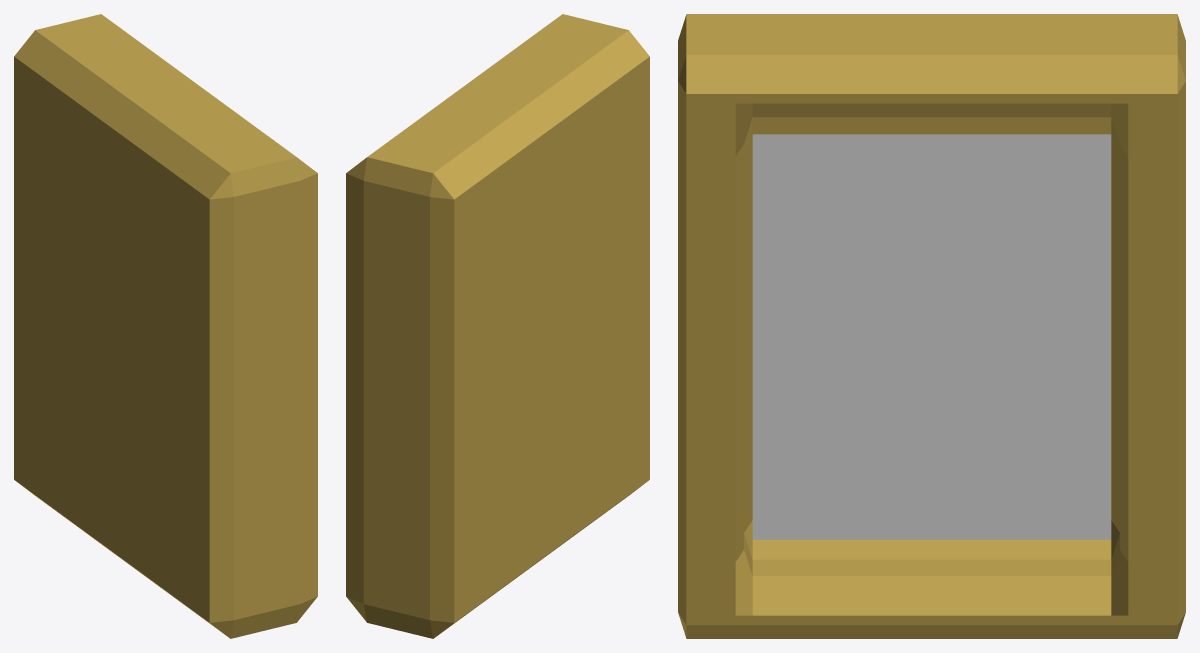
Rendered from PhotoFrame.fbx.
The picture shows the model from 3 angles, left to right: view 1: azimuth 30°, elevation 25°; view 2: azimuth 150°, elevation 25°; view 3: azimuth 270°, elevation 25°; orthographic projection. The views are drawn at different scales.
Parts seen in each view (by area): view 1: Plane.003, FrameBark; view 2: Plane.003, FrameBark; view 3: Plane.003, FrameGlass, FrameBark.
Part boxes in pixels (bbox=[...]): Plane.003: bbox=[14, 14, 317, 638]; FrameBark: bbox=[40, 126, 183, 552]; Plane.003: bbox=[346, 14, 649, 638]; FrameBark: bbox=[480, 126, 623, 552]; Plane.003: bbox=[678, 14, 1185, 638]; FrameGlass: bbox=[752, 134, 1111, 539]; FrameBark: bbox=[752, 117, 1111, 134].
Size of the model in its own units: 0.6529 by 2.68 by 2.11.
